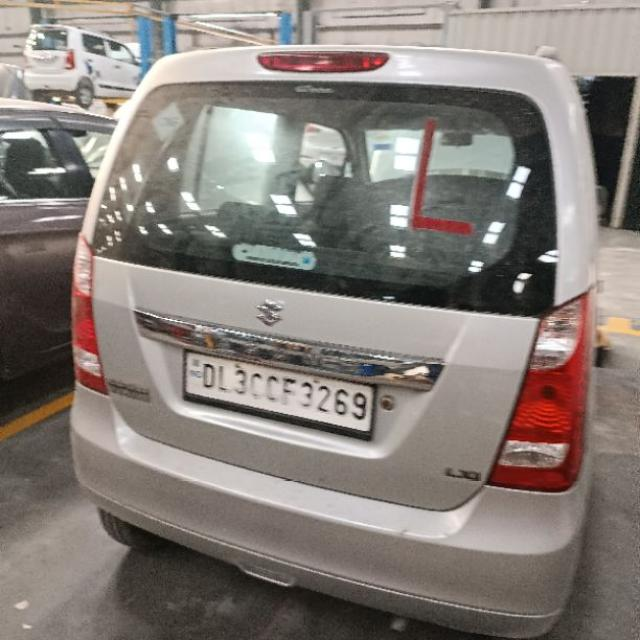license_plate: (180, 348, 376, 442)
